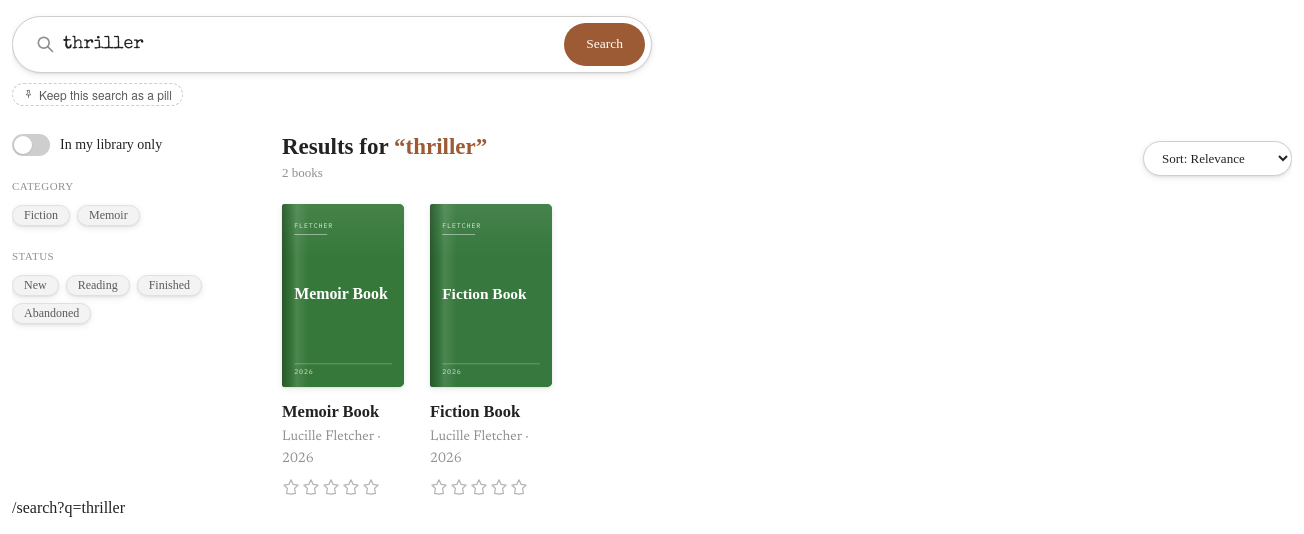
Test case: SearchPage › filters to a category client-side without refetching
Expected: the button "Memoir Book" is shown, [282,204,404,496]
Click the button "Memoir" at (108, 215), box [77,205,140,226]
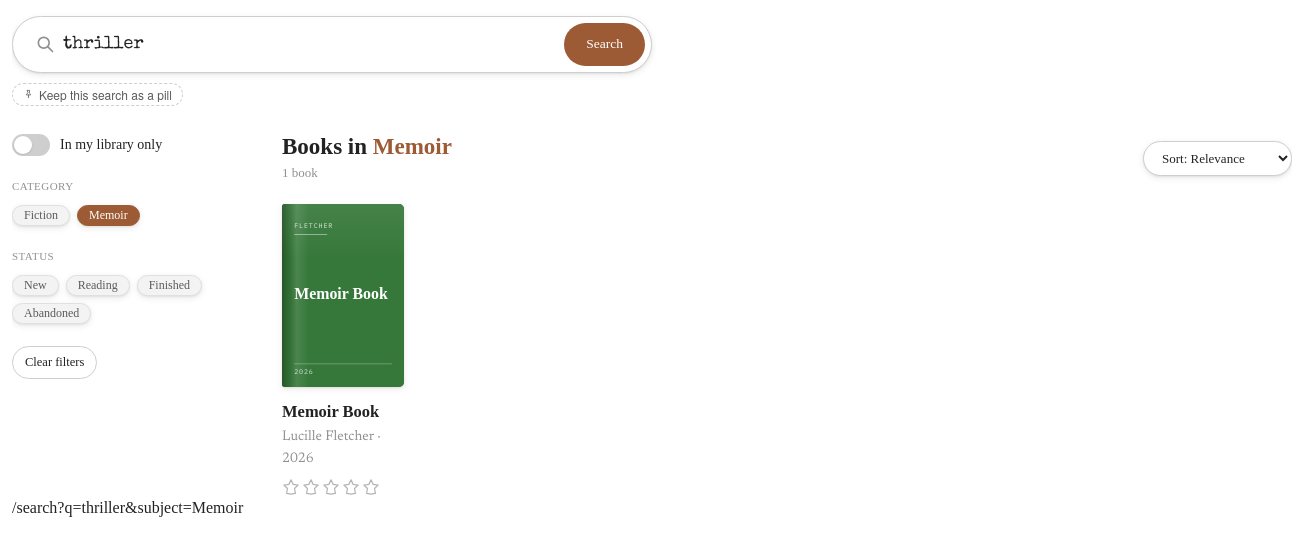
Expected: the button "Memoir Book" is shown, [282,204,404,496]
Result: the button "Fiction Book" is gone
